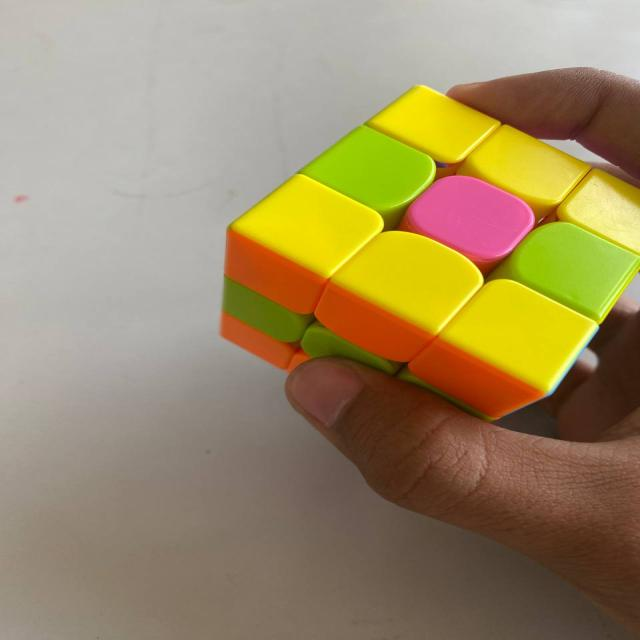Cube-3x3: (233, 82, 640, 437)
